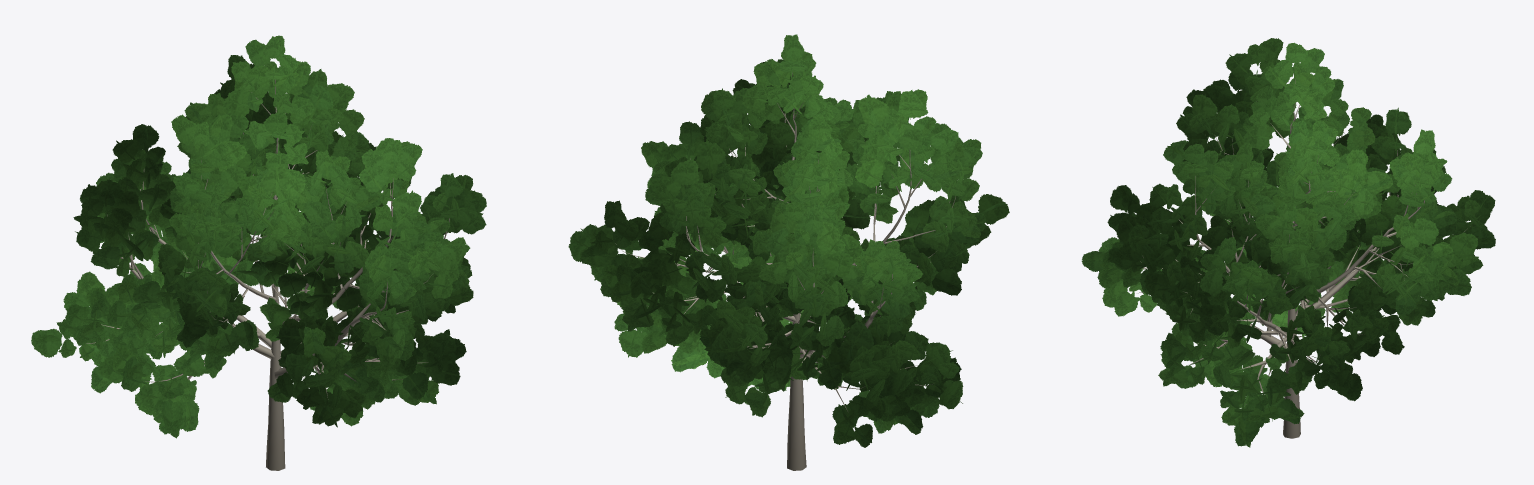
Rendered from laurel-alto.glb.
3 views of the same model, side by side, from view 1: azimuth 30°, elevation 25°; view 2: azimuth 150°, elevation 25°; view 3: azimuth 270°, elevation 25° (orthographic). The views are drawn at different scales.
Parts seen in each view (by area): view 1: laurel; view 2: laurel; view 3: laurel.
Boxes of the visible parts, x1,y1,x2,y2 form: laurel: [31, 35, 486, 470]; laurel: [568, 34, 1009, 470]; laurel: [1081, 38, 1495, 447].
Bounding box in the file's own units: 12.06 × 12 × 12.14.
2 materials, 1 textured.
